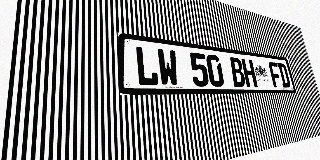0: (205, 54, 225, 87)
5: (189, 52, 210, 87)
B: (229, 57, 246, 87)
D: (277, 63, 291, 88)
F: (268, 62, 283, 87)
H: (241, 58, 258, 87)
L: (134, 45, 159, 86)
W: (157, 48, 180, 86)
